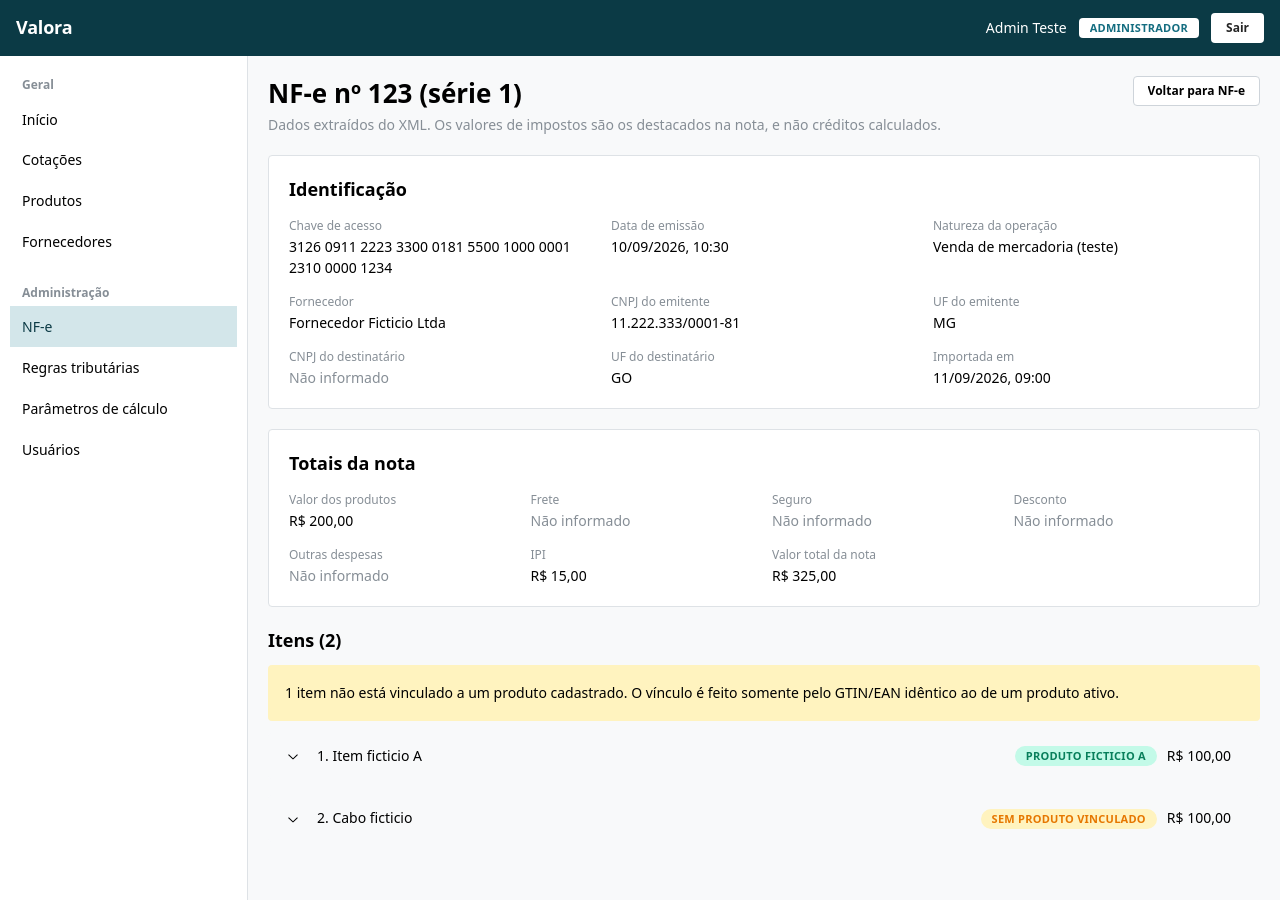
it: NfeDetalhePage › mostra identificação, totais e itens exatamente como vieram do backend
The width and height of the screenshot is (1280, 900).
Check: the heading "NF-e nº 123 (série 1)" is shown, box [268, 75, 522, 111]
Check: the text "3126 0911 2223 3300 0181 5500 1000 0001 2310 0000 1234" is shown, box [289, 237, 595, 278]
What coordinates should you click on to do the following:
click the button named "Item 1: Item ficticio A"
I would click on:
 (370, 756)
Its box is [269, 734, 1259, 778].
(page scrolled)
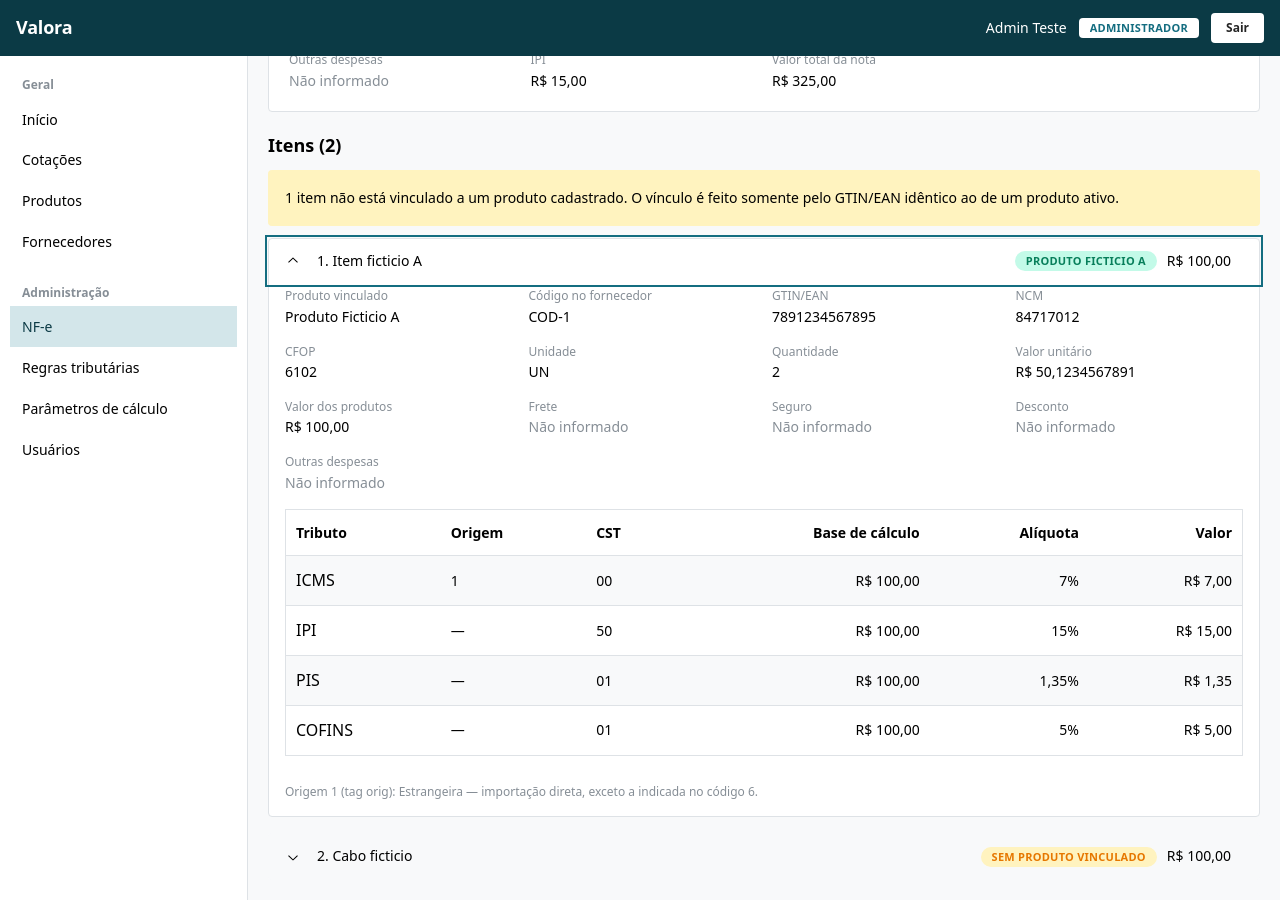
Check: the row "ICMS 1 00 R$ 100,00 7% R$ 7,00" is shown, box [286, 556, 1242, 606]
Check: the row "IPI — 50 R$ 100,00 15% R$ 15,00" is shown, box [286, 606, 1242, 656]
Check: the row "PIS — 01 R$ 100,00 1,35% R$ 1,35" is shown, box [286, 656, 1242, 705]
What coordinates should you click on to do the following:
click the button named "Item 2: Cabo ficticio"
I would click on:
 (365, 856)
Its box is [269, 834, 1259, 879].
(page scrolled)
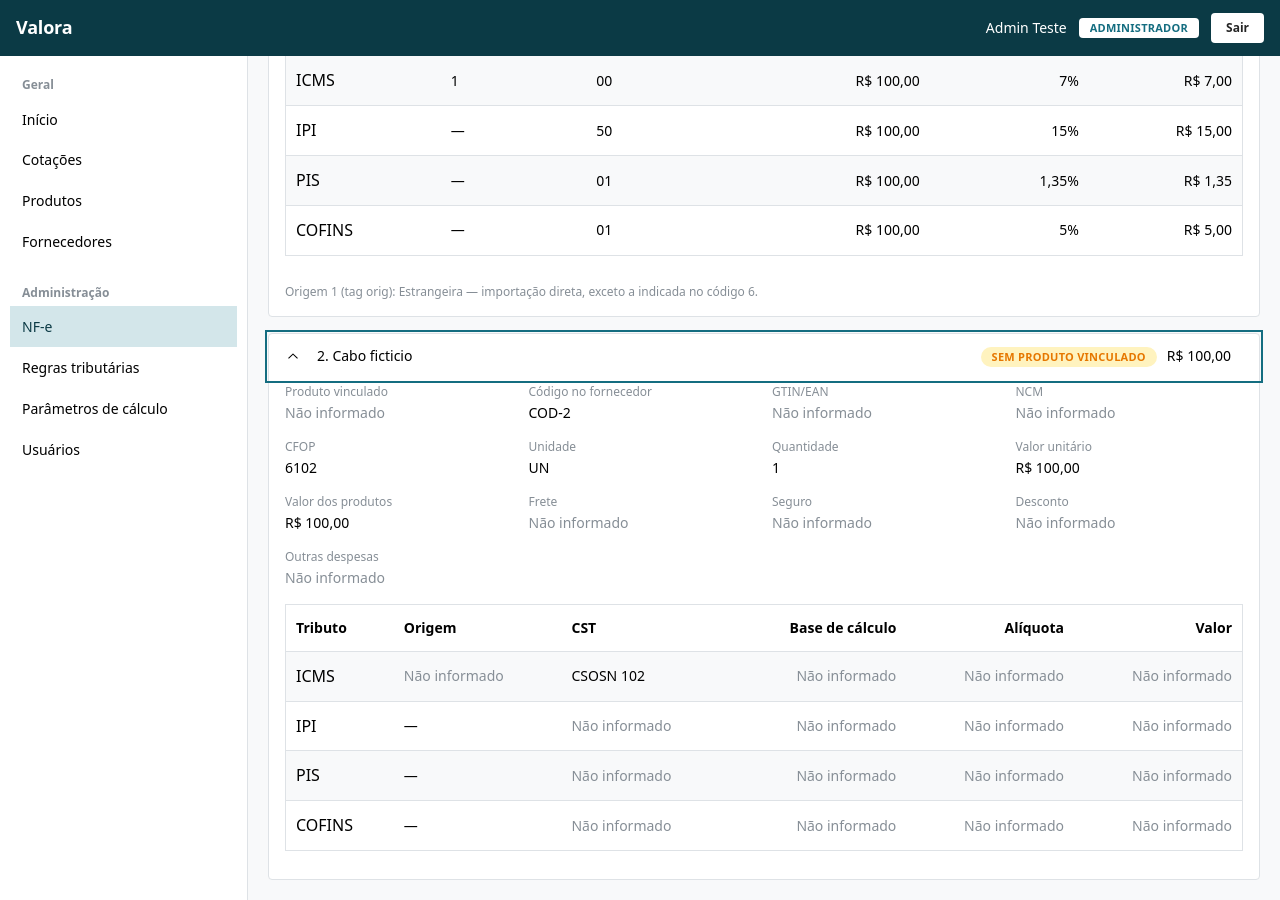
Check: the 6th row shows "CSOSN 102", box [572, 666, 645, 685]
Check: the 7th row shows "Não informado", box [572, 716, 672, 735]
